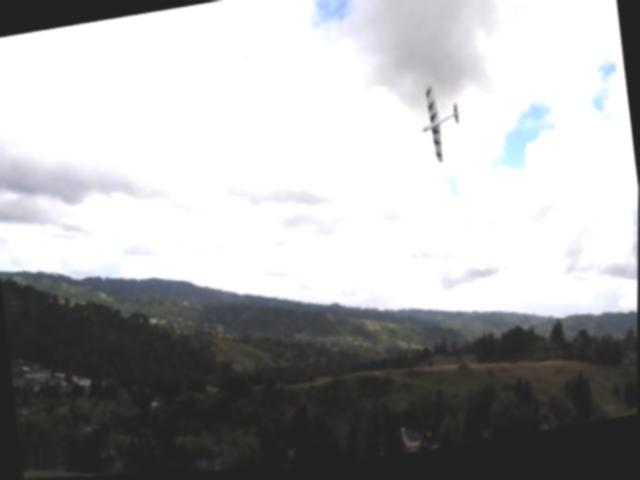uav: (414, 79, 468, 170)
